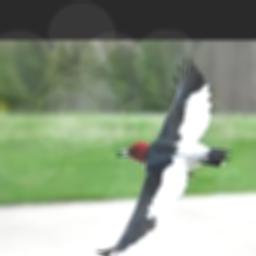Woodpecker: (92, 57, 232, 256)
